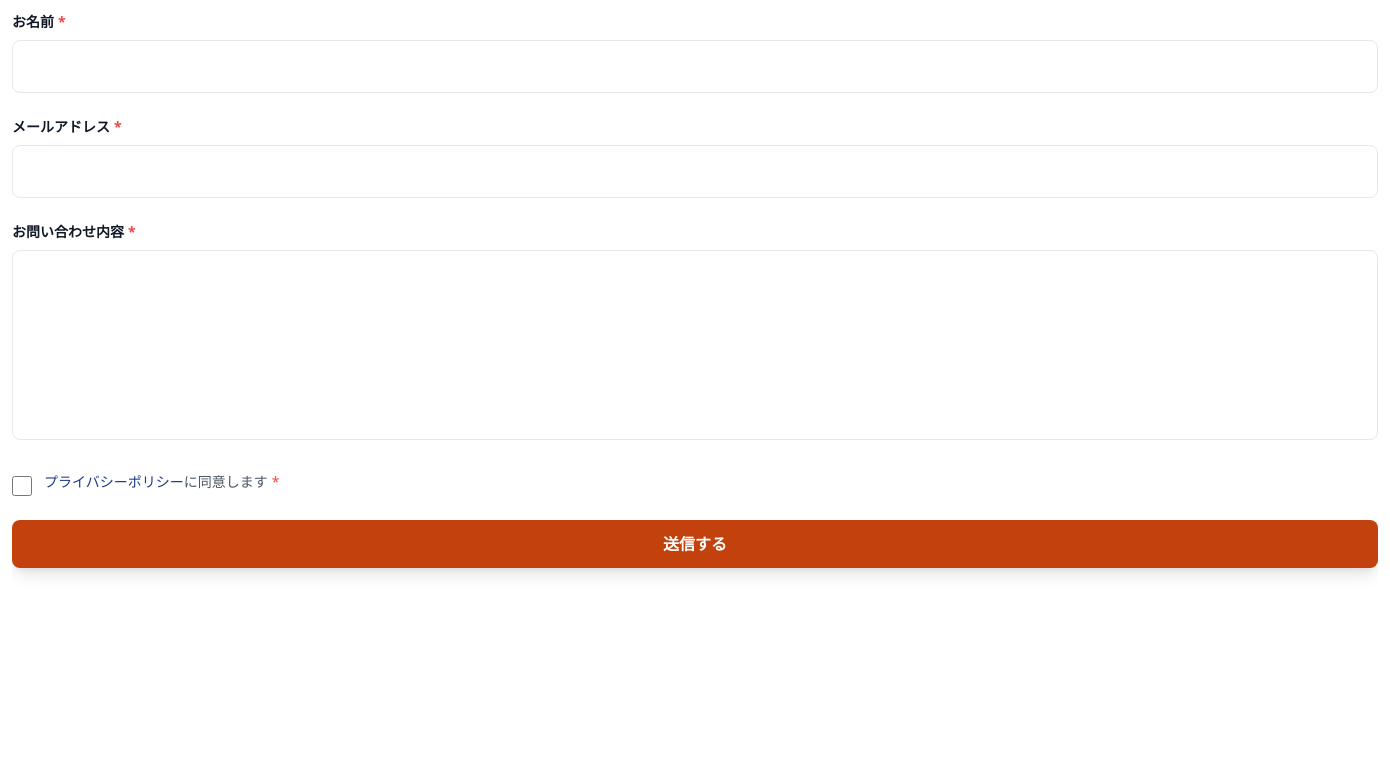
Test case: ContactForm › validation › shows error when name is too short
Type "A" into the field labelled "お名前*" at [695, 67], box x1=12 y1=40 x2=1378 y2=93
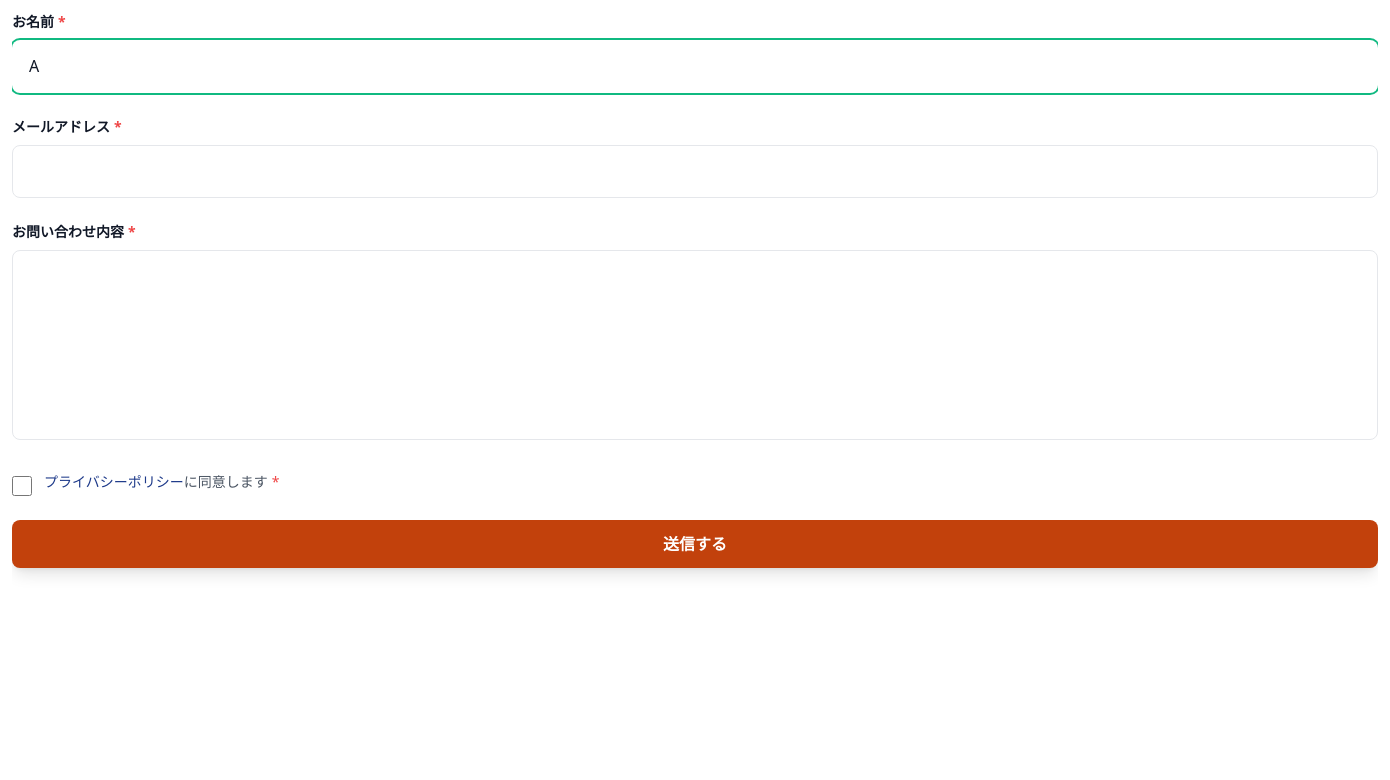
Click the button "送信する" at [695, 544], box x1=12 y1=520 x2=1378 y2=568
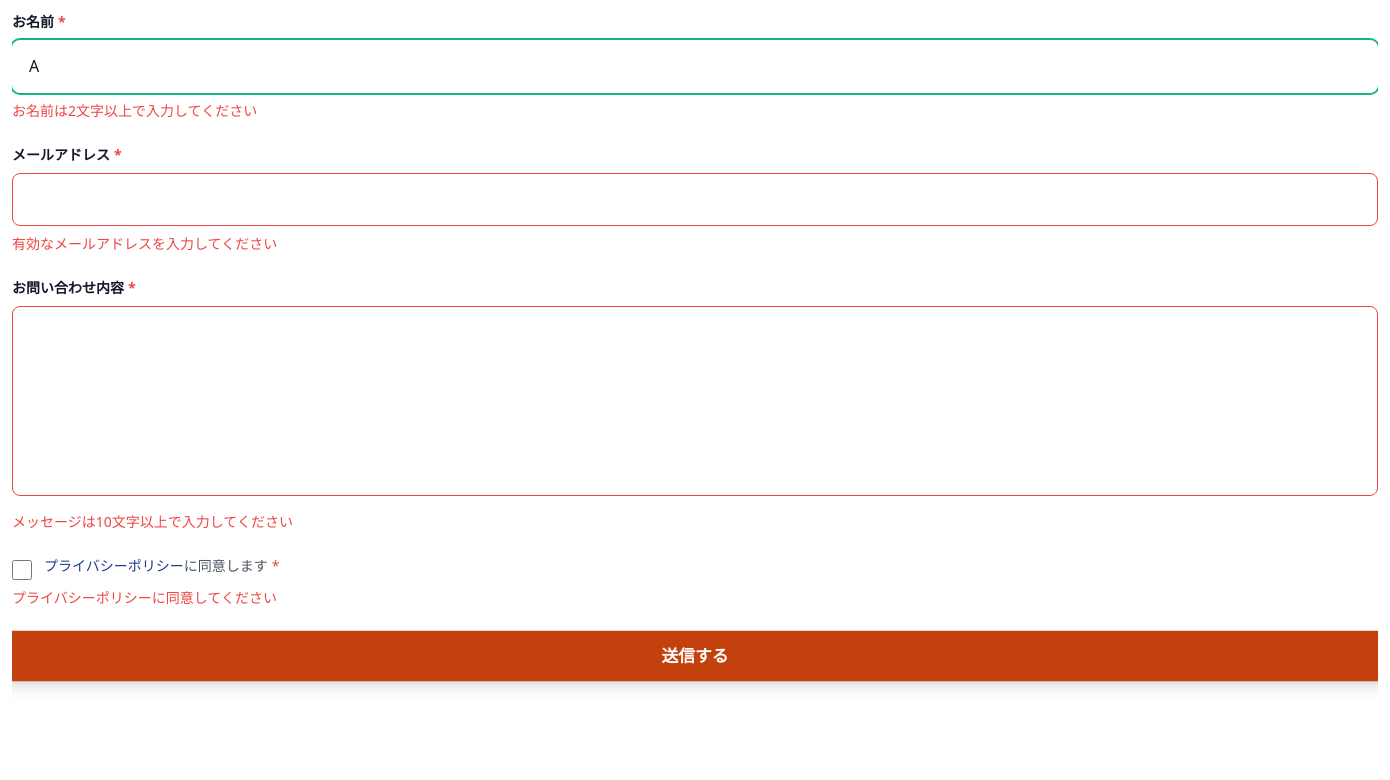
Result: the text "お名前は2文字以上で入力してください" is shown at x1=12 y1=101 x2=257 y2=120
